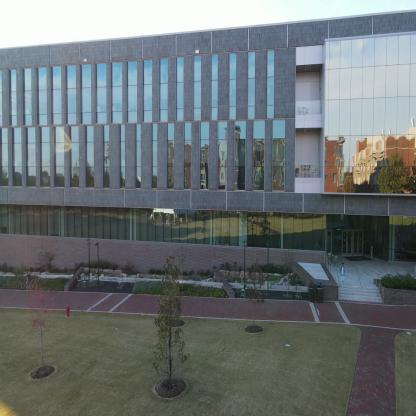Fitts- Woolard: (2, 20, 415, 333)
